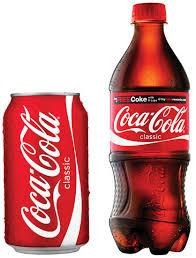Aluminum can: (2, 84, 93, 258)
Plastic bottle: (103, 6, 196, 258)
